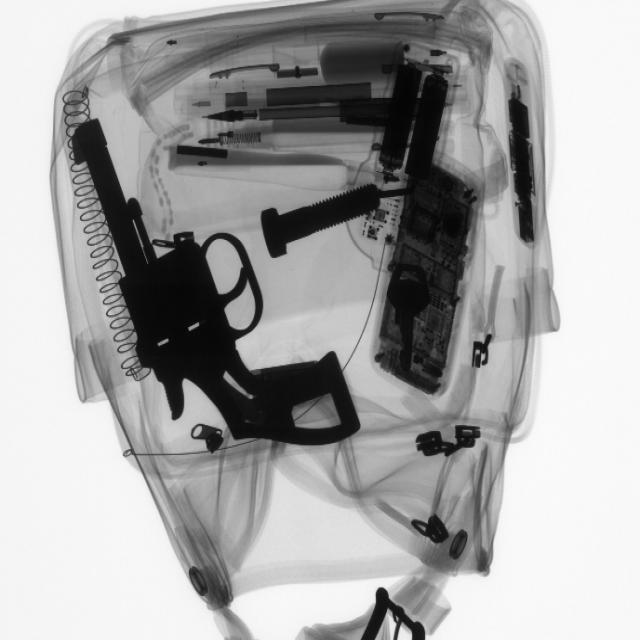GUN: (62, 119, 374, 449)
